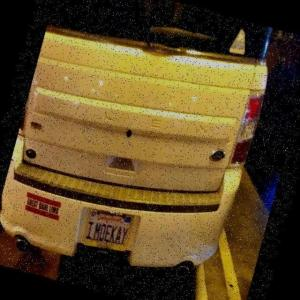Plate: (74, 199, 140, 262)
